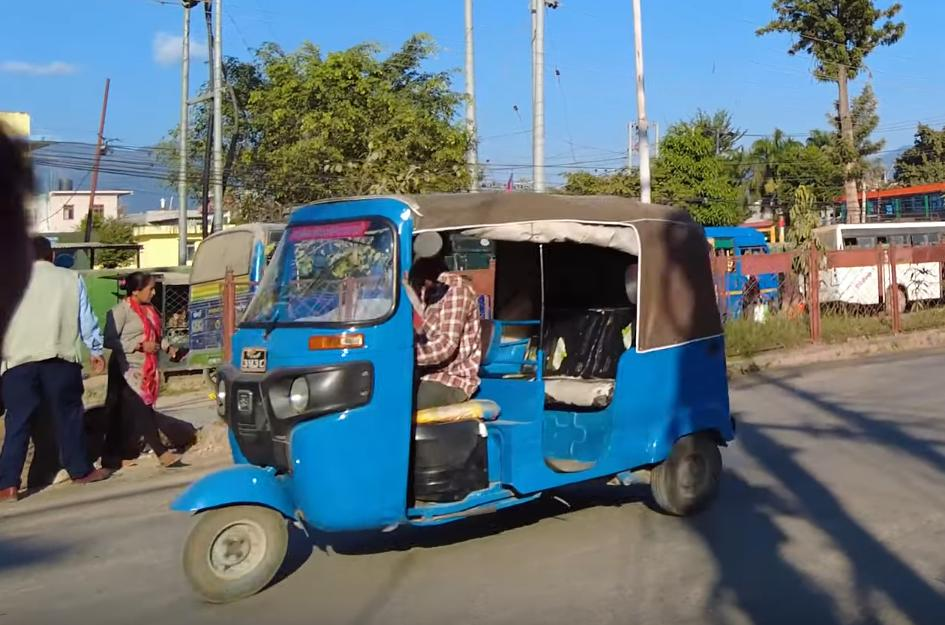auto_rickshaw: (170, 192, 743, 609)
